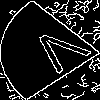V: (25, 25, 100, 82)
